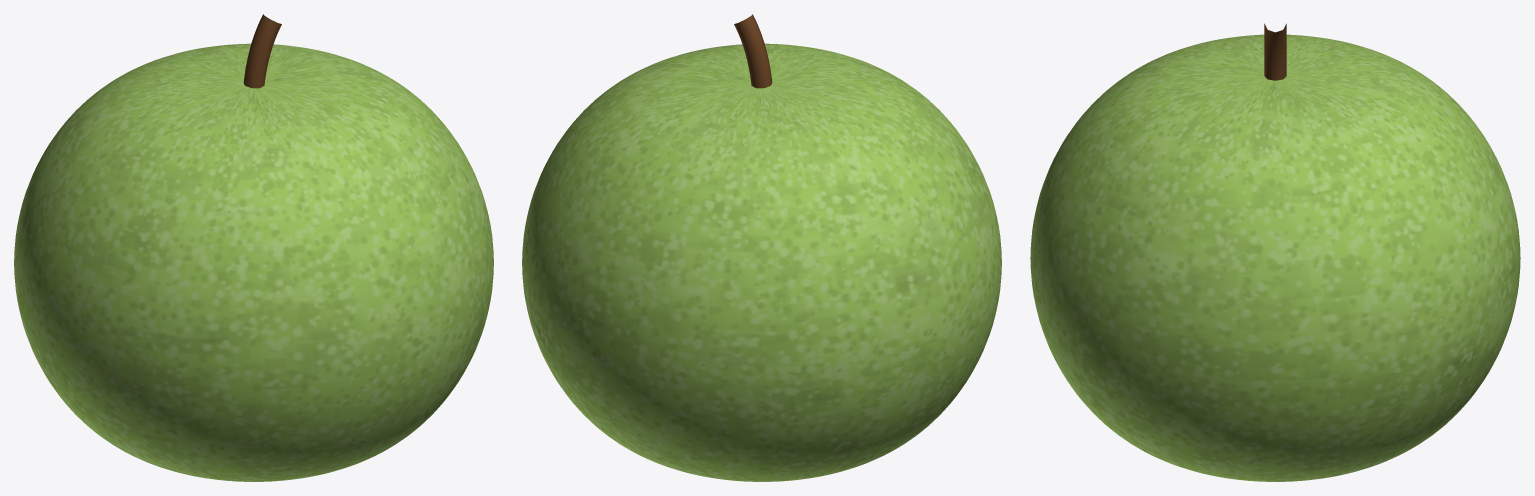
File: guava.glb
3 views of the same model, side by side, from view 1: azimuth 30°, elevation 25°; view 2: azimuth 150°, elevation 25°; view 3: azimuth 270°, elevation 25° (orthographic). The views are drawn at different scales.
Bounding box in the file's own units: 0.17 × 0.1652 × 0.17.
Materials: 2 (1 with a texture image).
